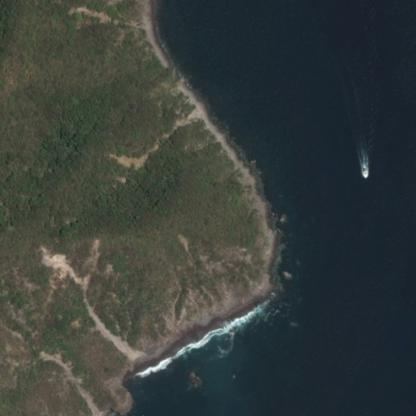ship: (358, 0, 370, 14)
